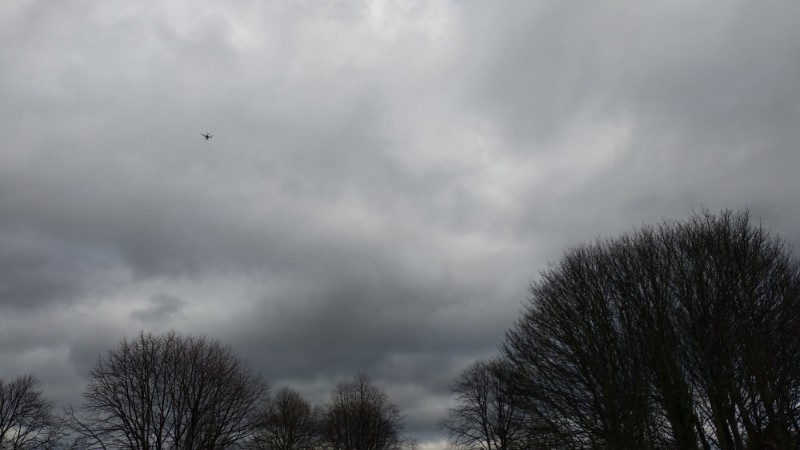drone: (201, 132, 213, 141)
